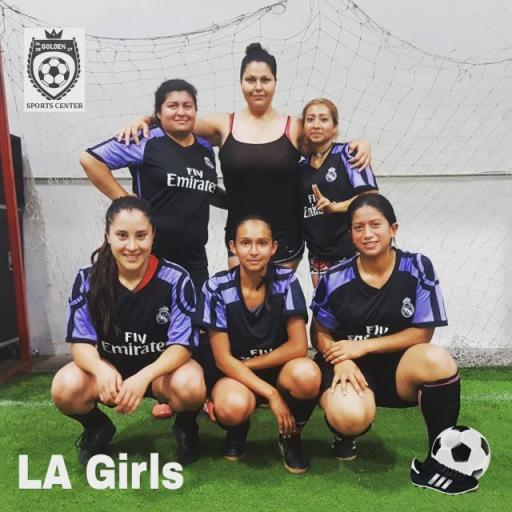Emirates: (99, 328, 167, 358)
